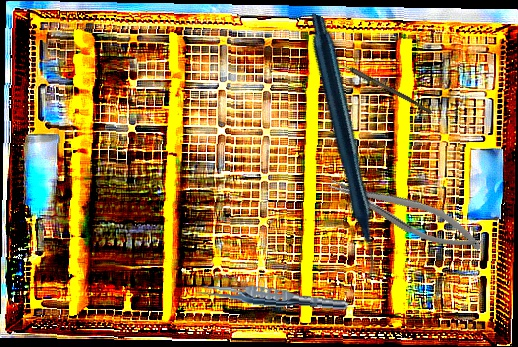Handpiece: (222, 13, 460, 280)
Needle Holder: (324, 162, 488, 264)
Surgical Spoon: (320, 52, 434, 114)
Tissue Forceps: (191, 280, 350, 314)
